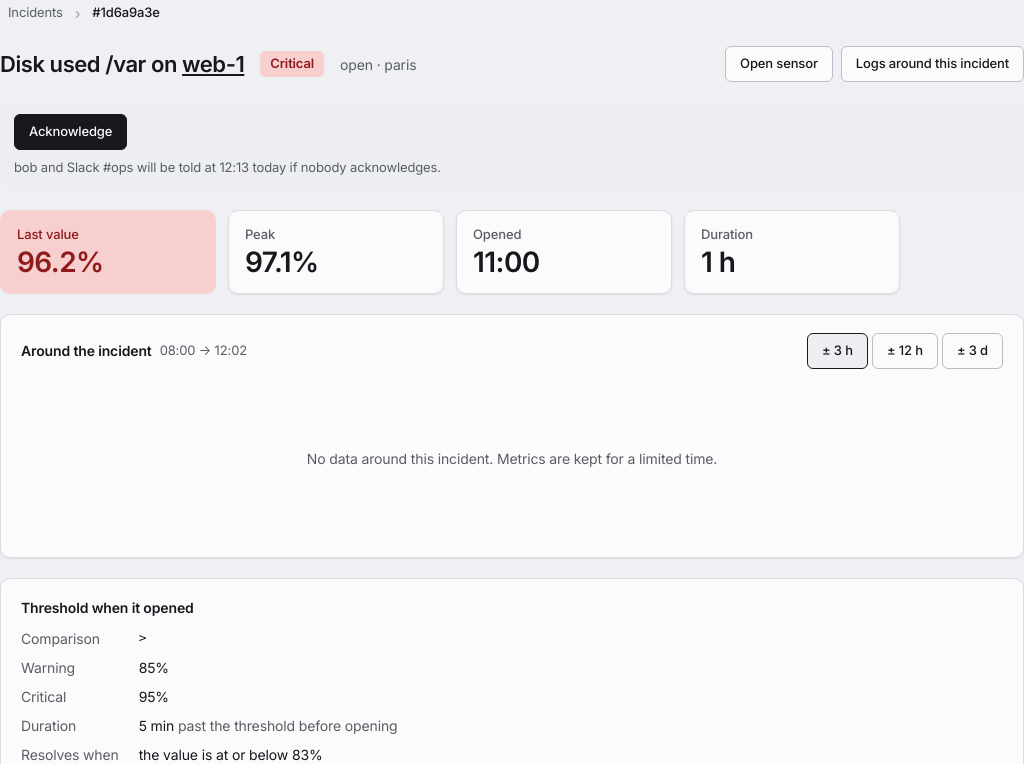
Test: IncidentPage acknowledgement › acknowledges, and says who will be told next until then
Click the button "Acknowledge".
click(71, 132)  # box [14, 114, 127, 150]
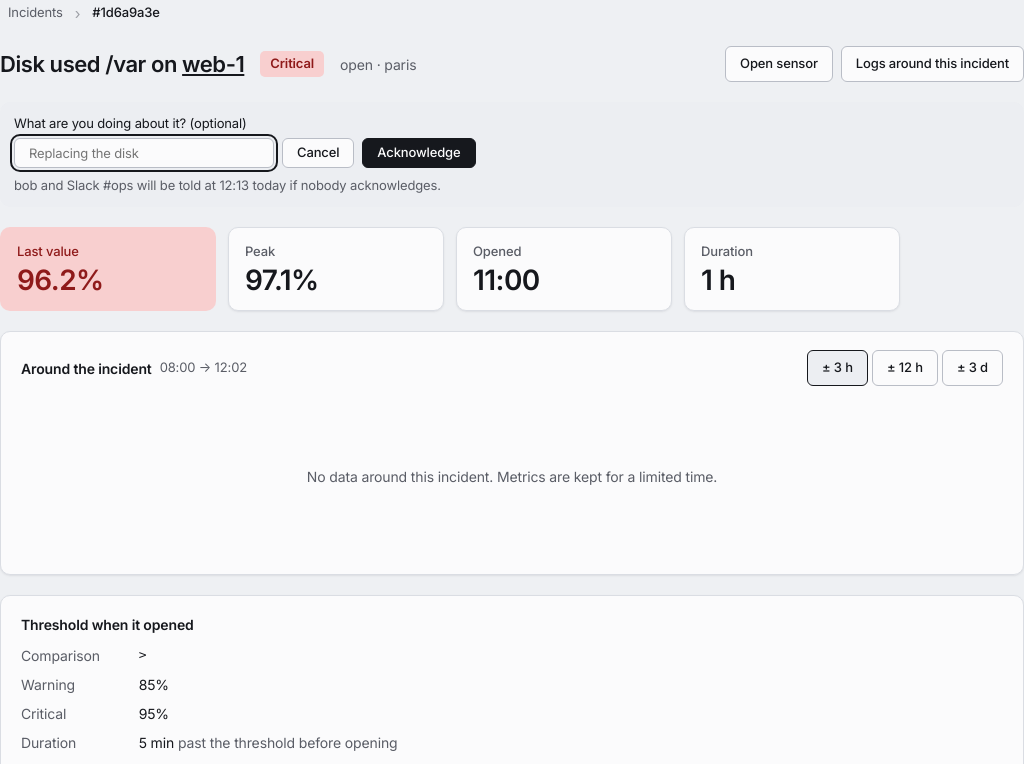
Expected: the button "Acknowledge" is enabled, [362, 138, 476, 168]
Type "  Replacing the disk " into the field labelled "What are you doing about it? (optional)".
click(144, 152); type("  Replacing the disk ")  # box [14, 138, 274, 168]
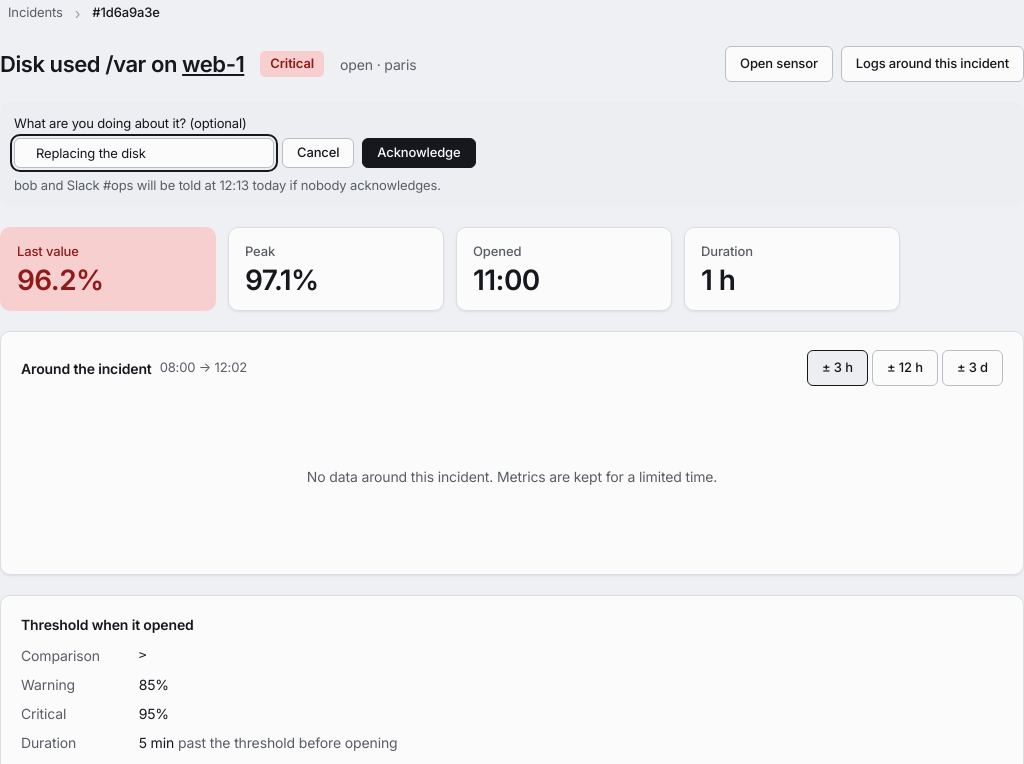
Click the button "Acknowledge".
click(419, 152)  # box [362, 138, 476, 168]
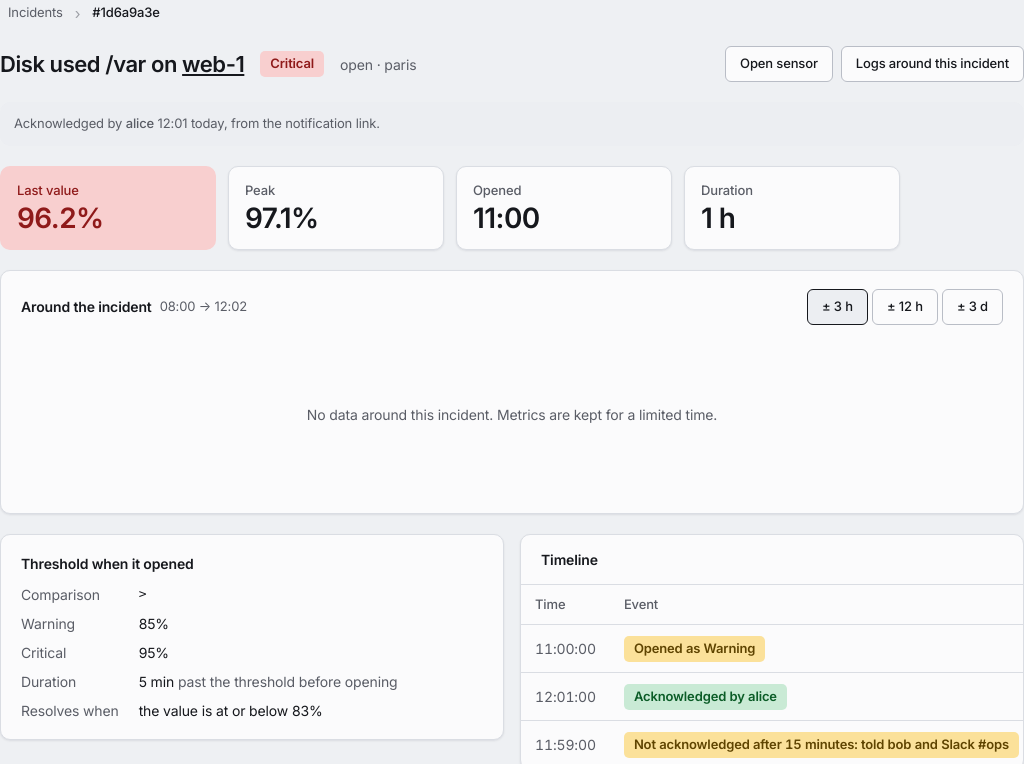
Now the text "from the notification link" is shown, box [224, 115, 376, 131]
Now the text "alice" is shown, box [126, 115, 154, 131]
Now the text "Acknowledged by alice" is shown, box [624, 684, 787, 710]
